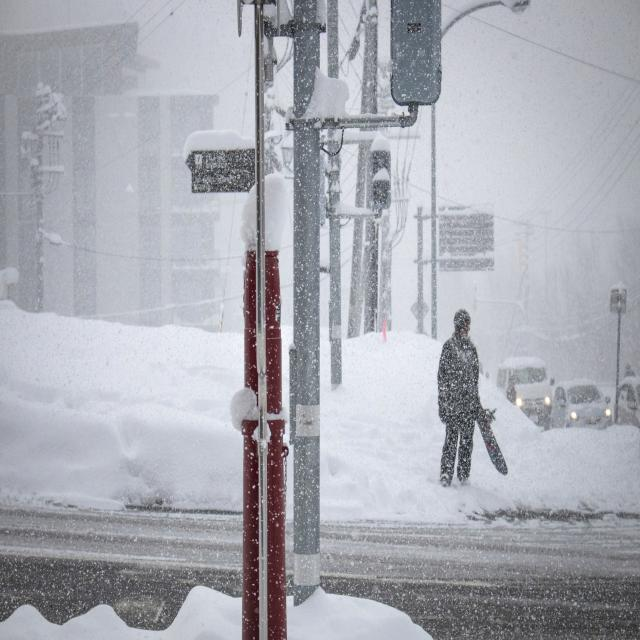adult: (436, 305, 499, 483)
